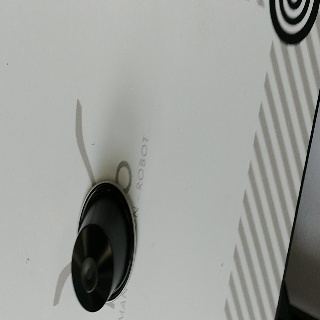capsule_10: (70, 179, 137, 313)
